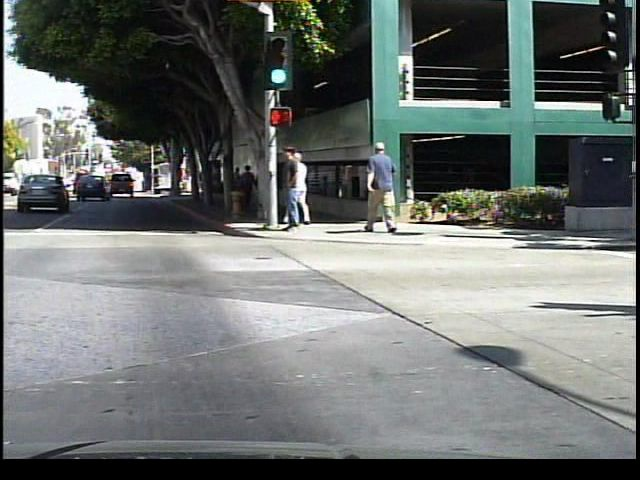person: (357, 137, 405, 234), (275, 143, 306, 236), (289, 145, 320, 225), (240, 161, 258, 208)
